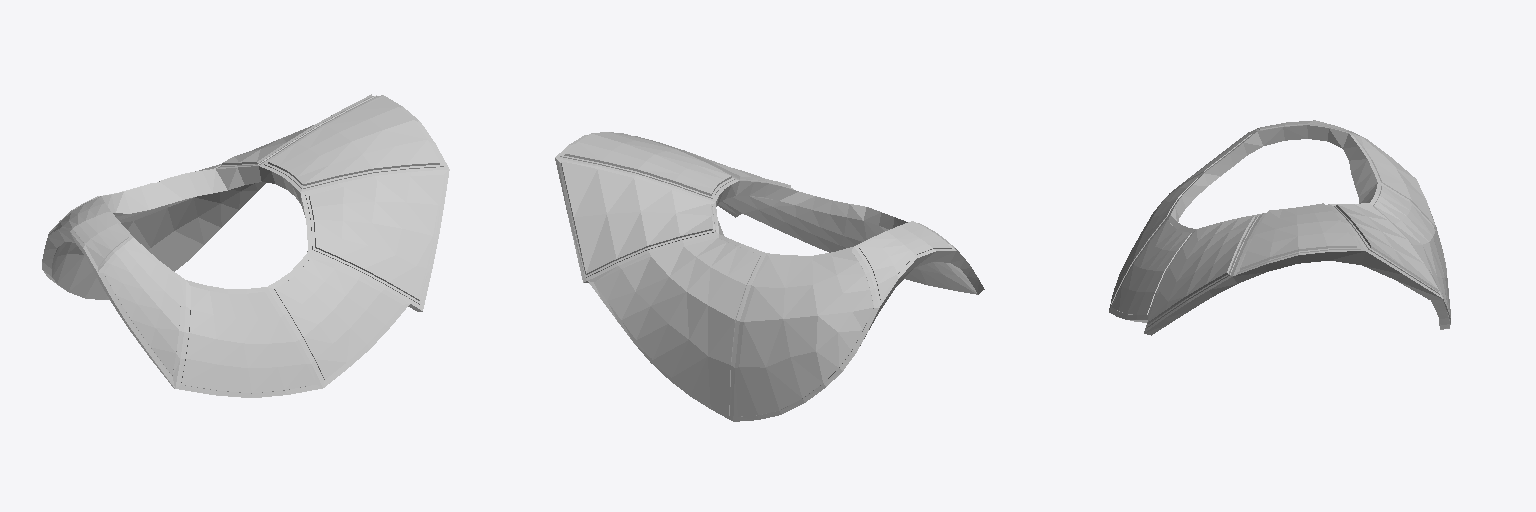
File: Phase 1 Pauldron.obj
The picture shows the model from 3 angles: view 1: azimuth 30°, elevation 25°; view 2: azimuth 150°, elevation 25°; view 3: azimuth 270°, elevation 25°; orthographic projection.
Parts seen in each view (by area): view 1: p1pauldron; view 2: p1pauldron; view 3: p1pauldron.
Boxes of the visible parts, x1=… form: p1pauldron: x1=42, y1=94, x2=449, y2=397; p1pauldron: x1=555, y1=132, x2=984, y2=421; p1pauldron: x1=1109, y1=120, x2=1450, y2=335.
Bounding box in the file's own units: 17.15 × 8.59 × 14.66.